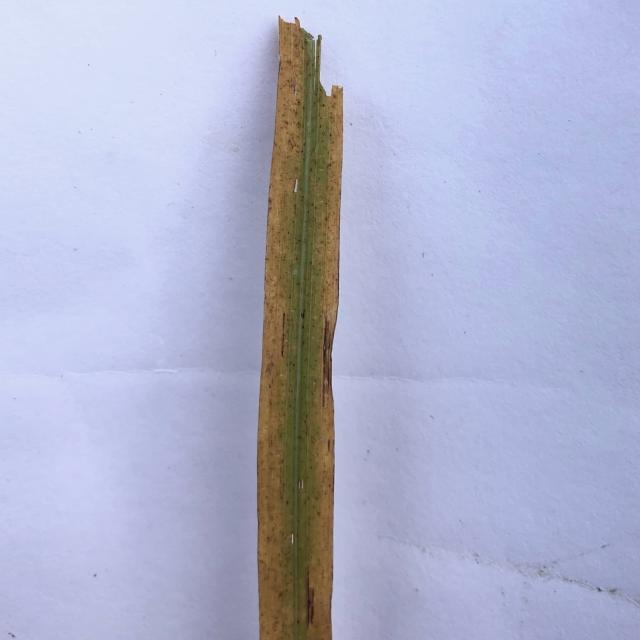tungro: (253, 17, 345, 640)
